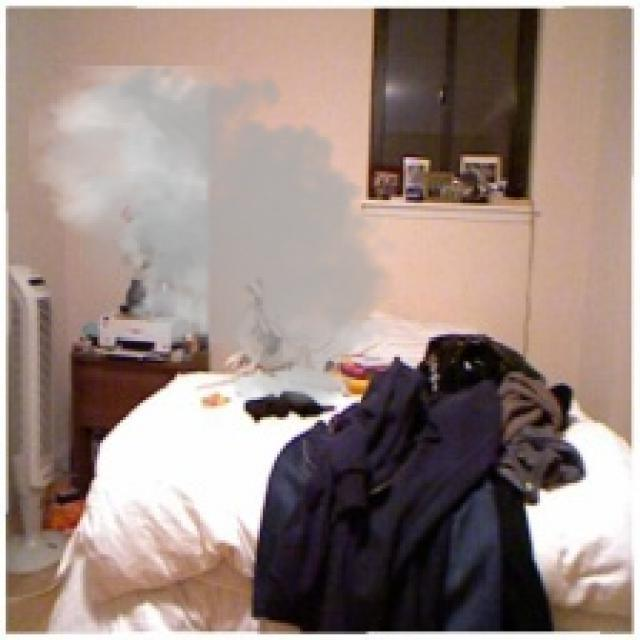Smoke: (29, 52, 408, 414)
